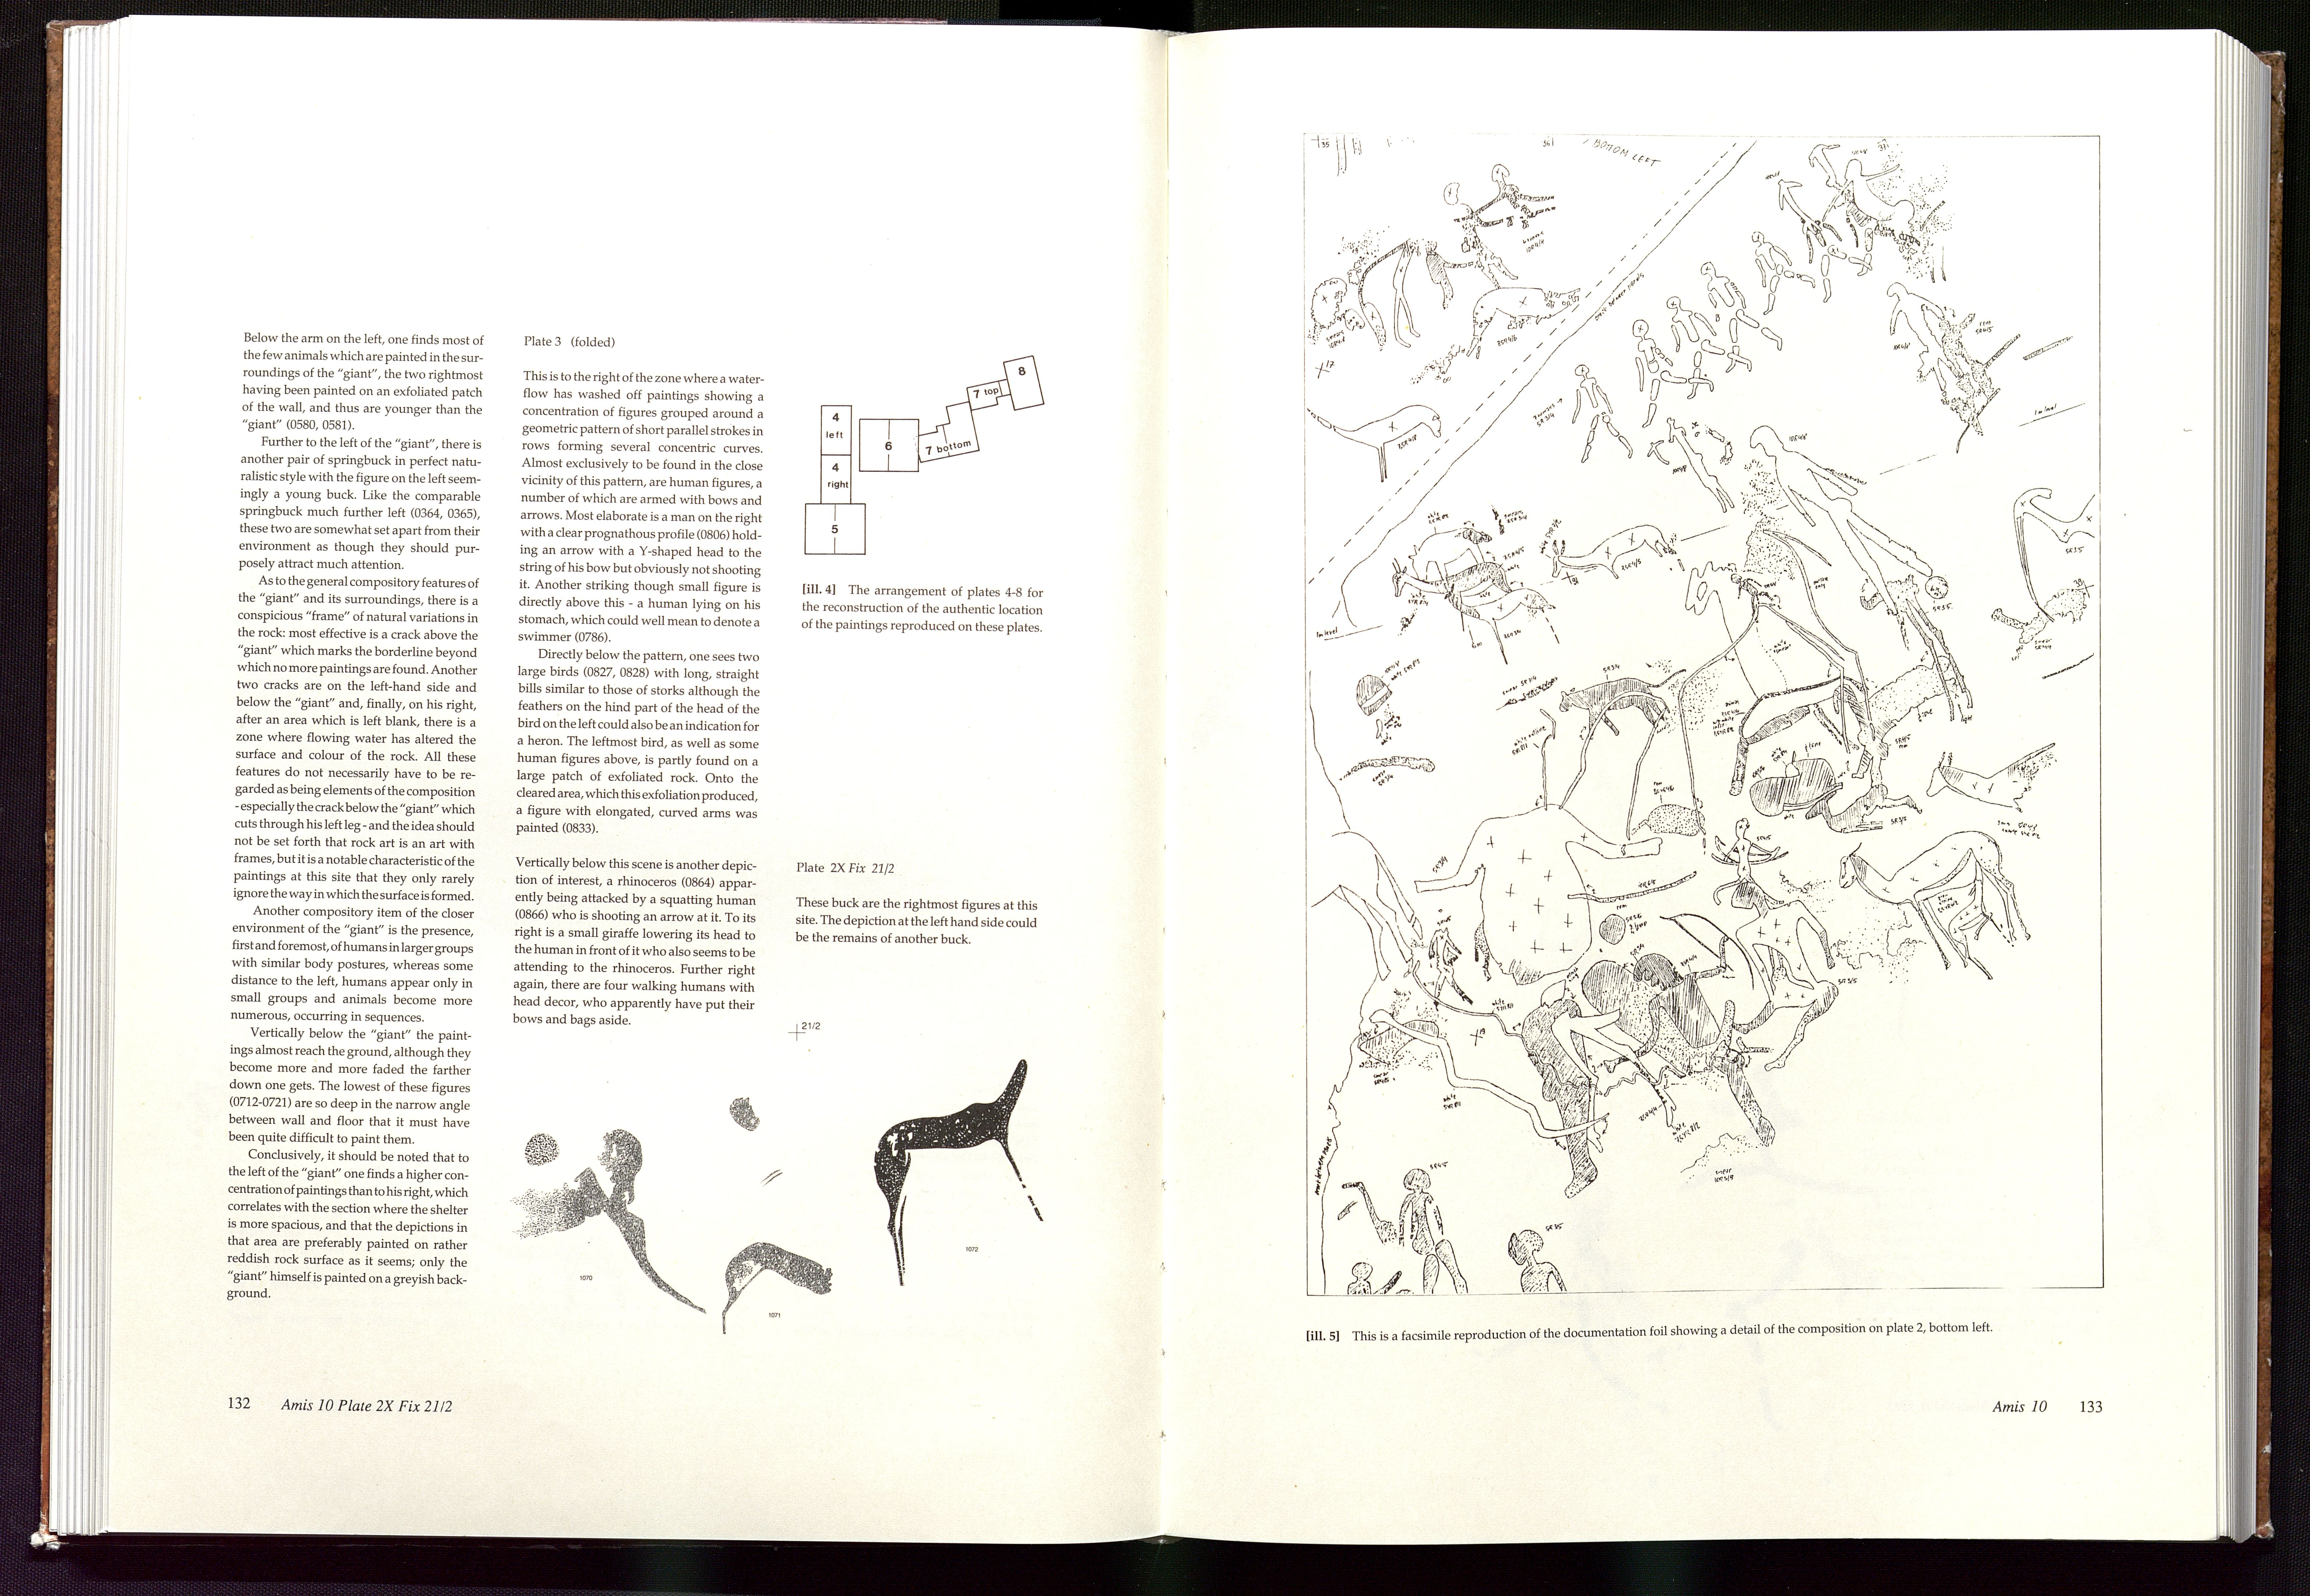animal: (871, 1057, 1046, 1290), (716, 1236, 836, 1336)
